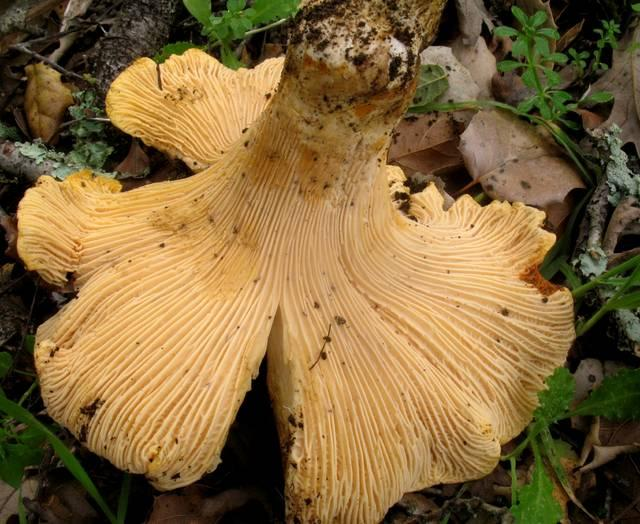edible_mushroom: (15, 0, 577, 523)
